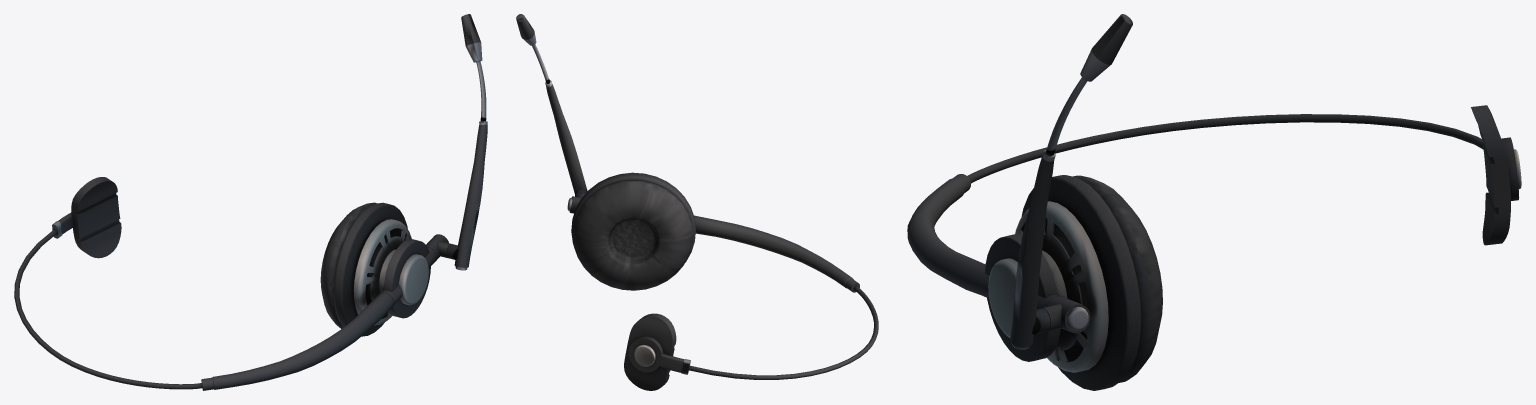
The model's file is model_erji1.fbx.
3 renders of one model, left to right at view 1: azimuth 30°, elevation 25°; view 2: azimuth 150°, elevation 25°; view 3: azimuth 270°, elevation 25°, orthographic. The views are drawn at different scales.
Visible parts, largest first — view 1: TXSB.027; view 2: TXSB.027; view 3: TXSB.027.
Boxes of the visible parts, x1,y1,x2,y2 form: TXSB.027: [14, 14, 487, 390]; TXSB.027: [516, 14, 878, 390]; TXSB.027: [907, 14, 1521, 390].
Size of the model in its own units: 152 by 102 by 125.
1 material, 1 textured.
